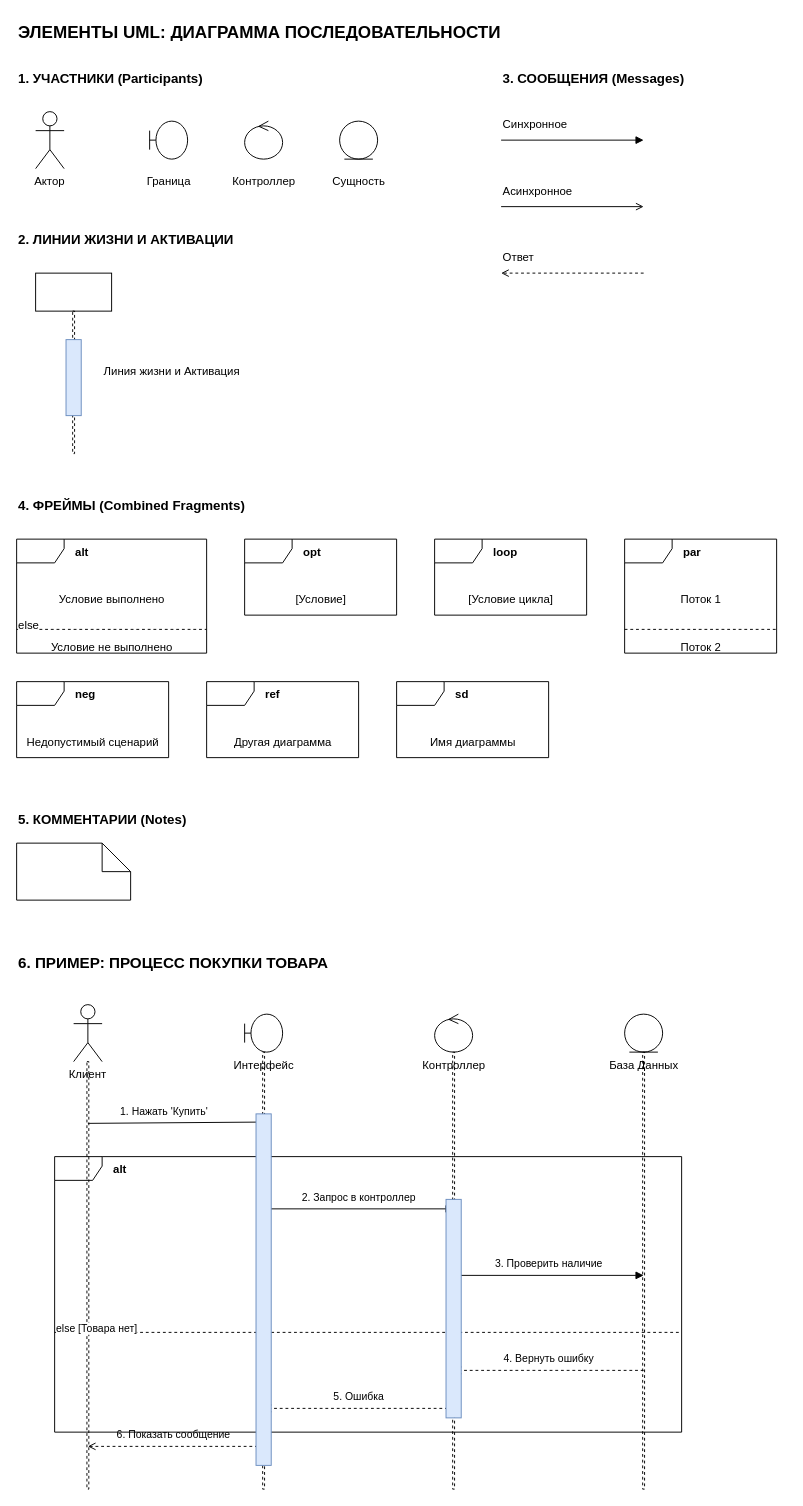
This 803x1506 diagram has some shape labels left out. Here are the shapes that lost their labels. From the top down, the centre of each, then its label:
point 73,291: :Объект
point 73,871: Текст комментария
